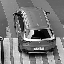motor: (13, 7, 42, 56)
